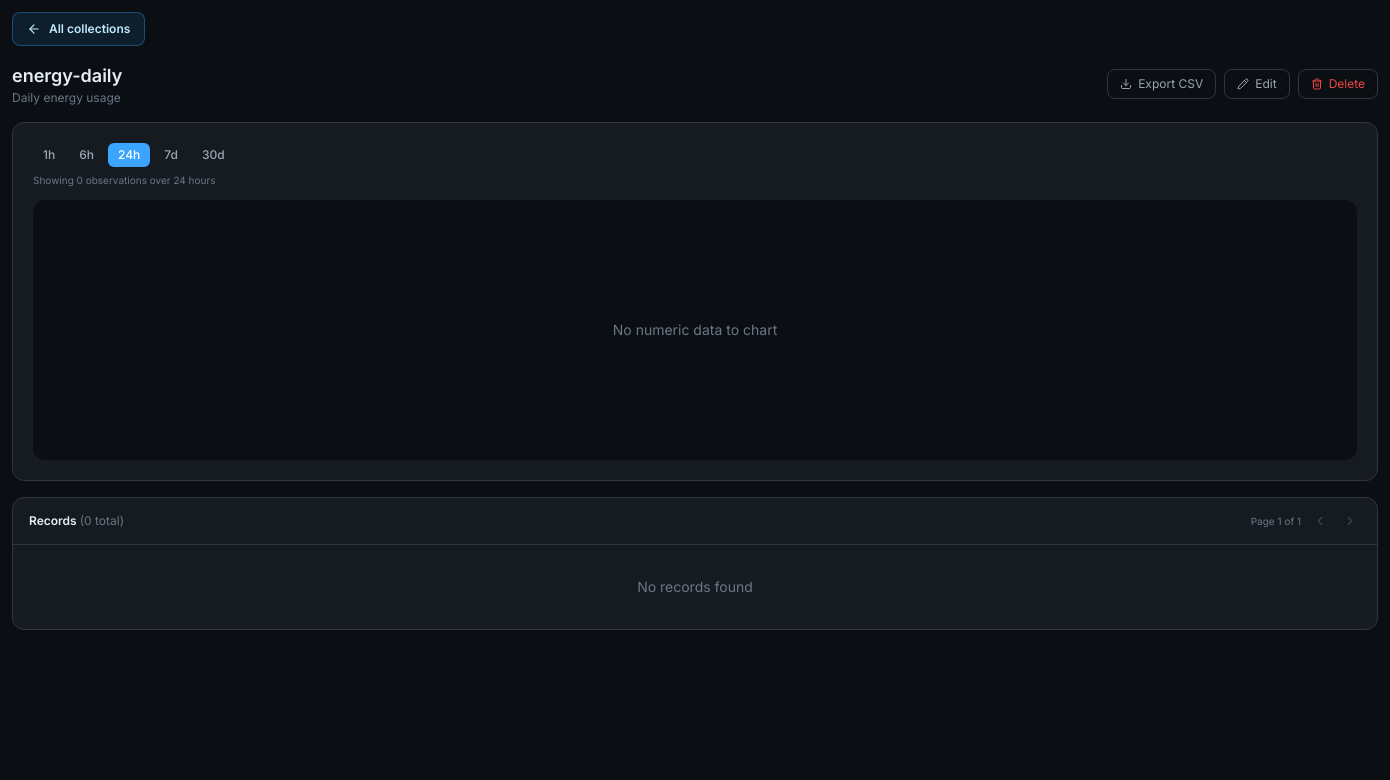
Scenario: CollectionDetail › dismisses the delete confirmation on Cancel
Click the button "Delete".
click(1338, 84)  # box x1=1298 y1=69 x2=1378 y2=99
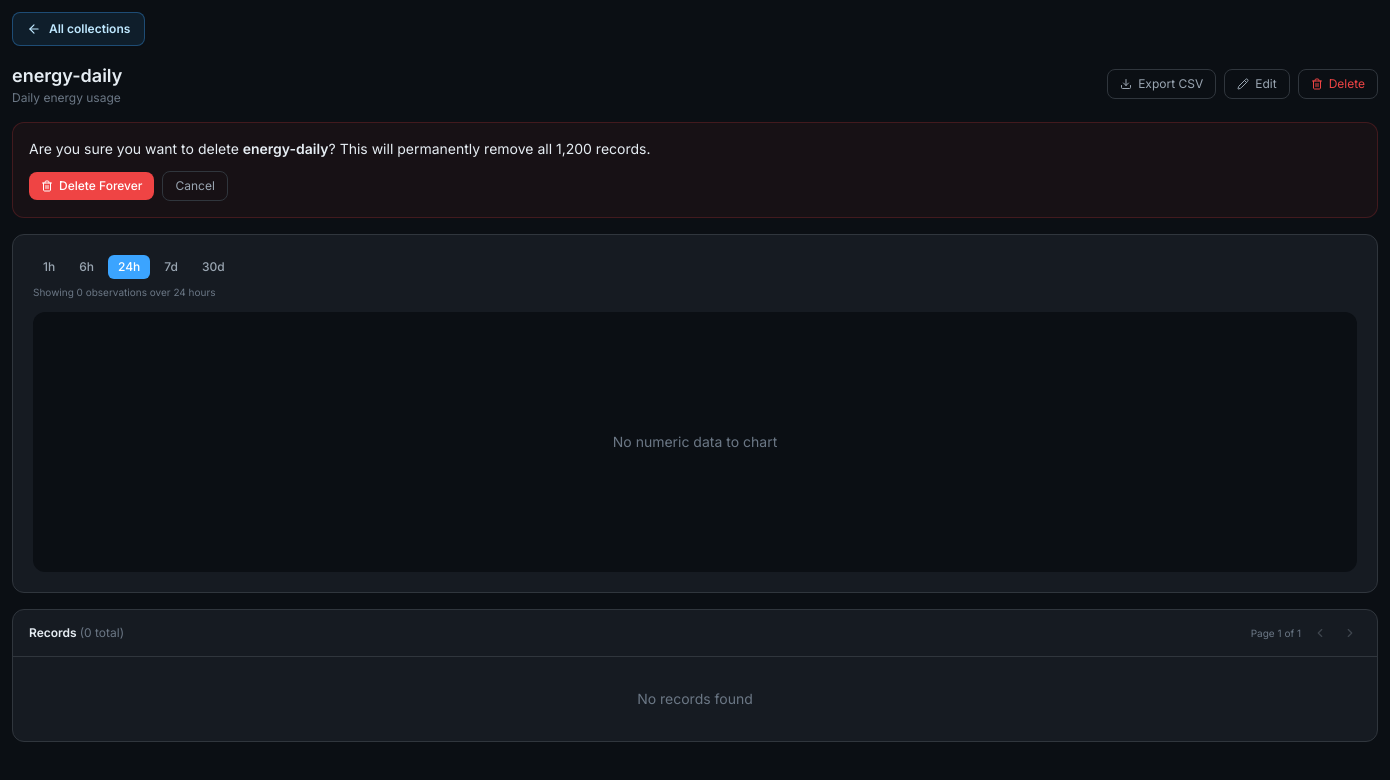
Click the button "Cancel".
click(195, 186)  # box x1=162 y1=171 x2=228 y2=201
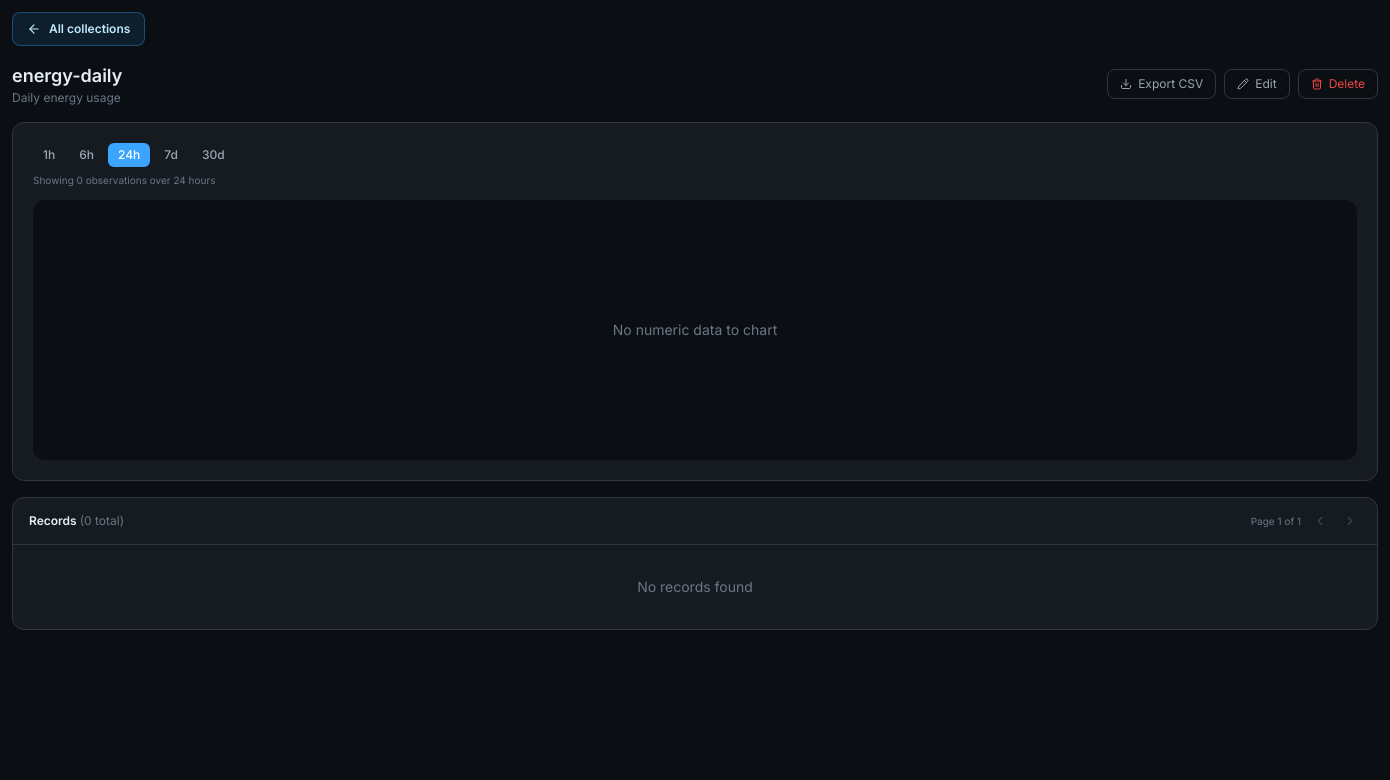
Expected: the text "Are you sure you want to delete" is gone
